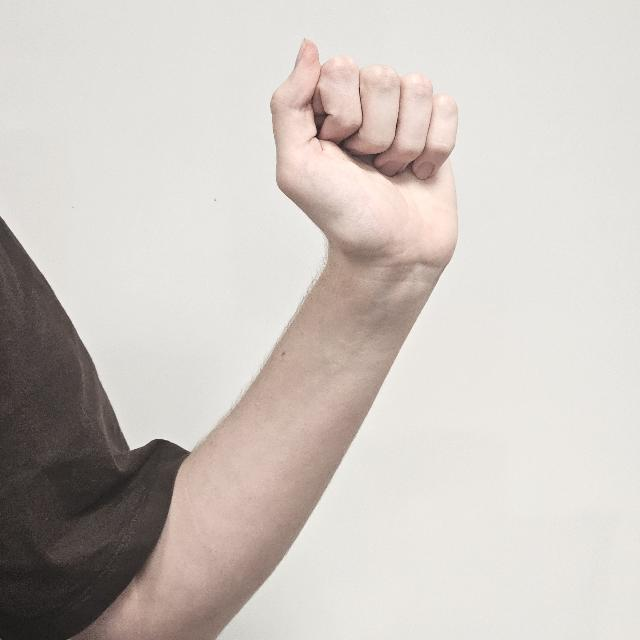Quadro: (268, 32, 464, 282)
